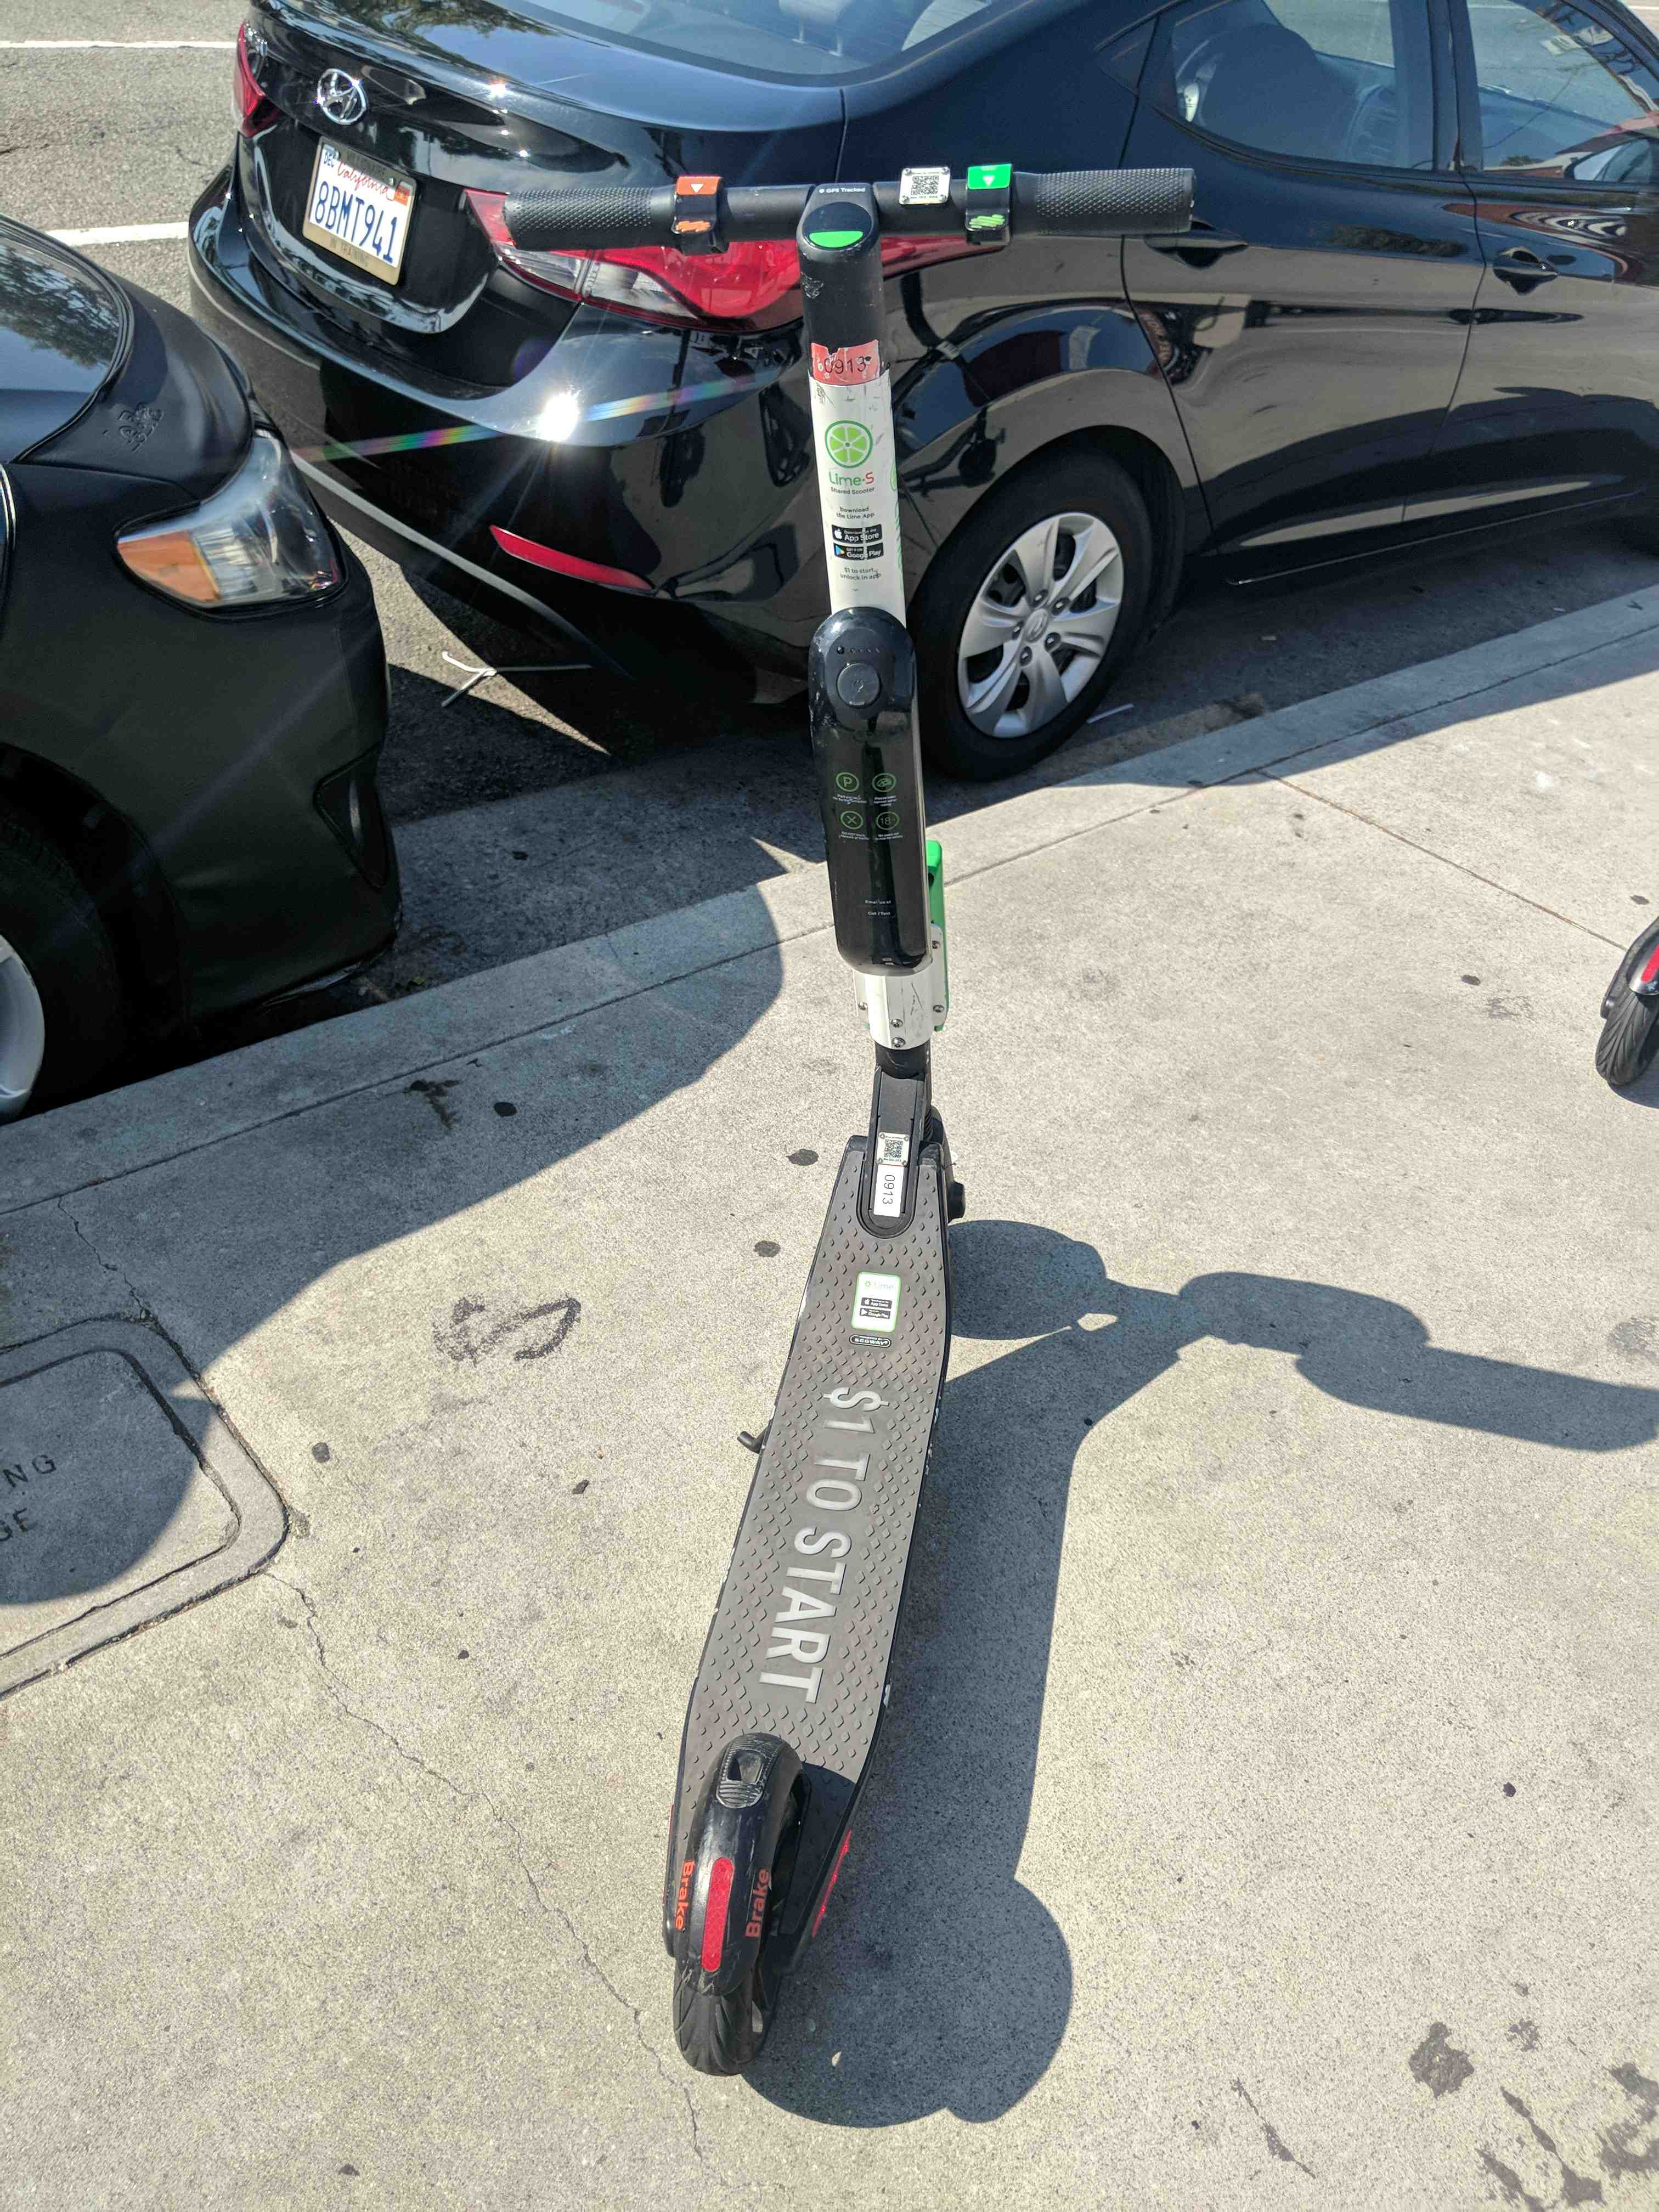scooter: (481, 152, 1216, 2067)
